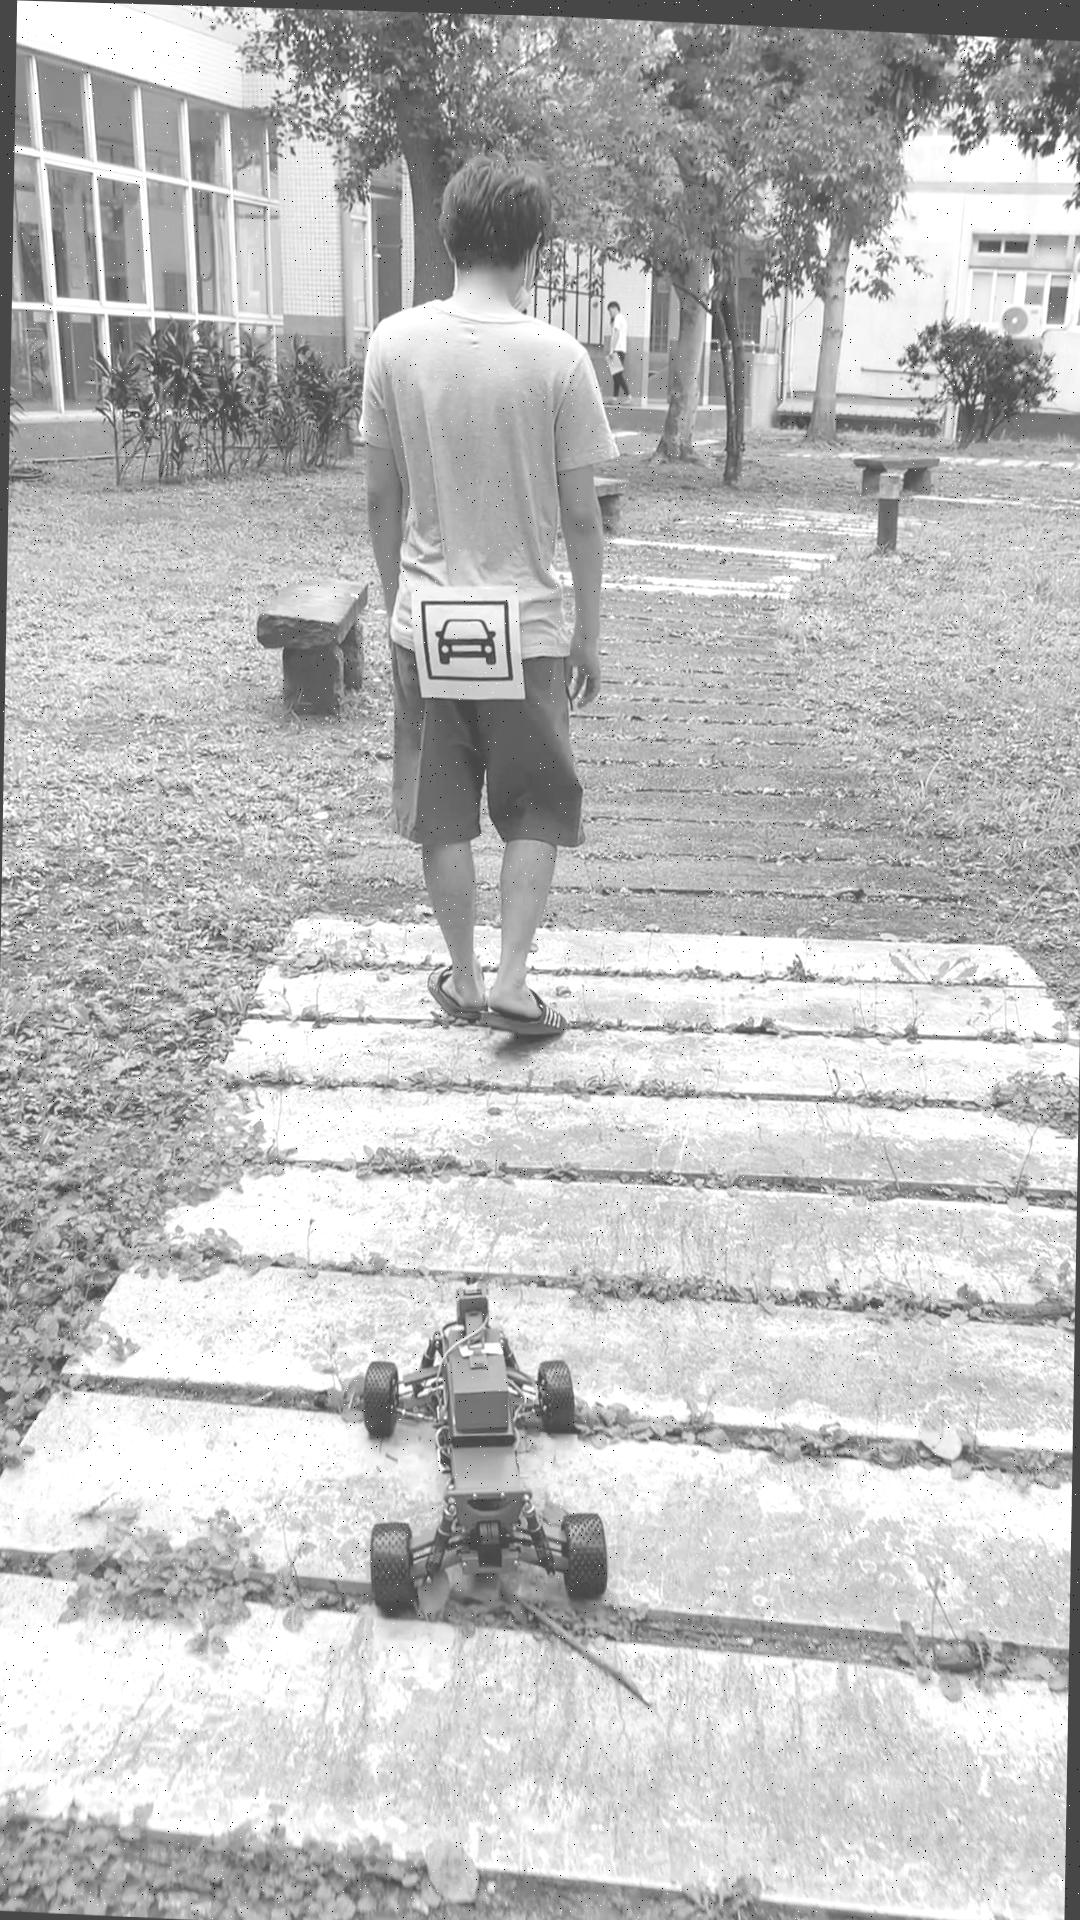car_img: (418, 593, 514, 680)
